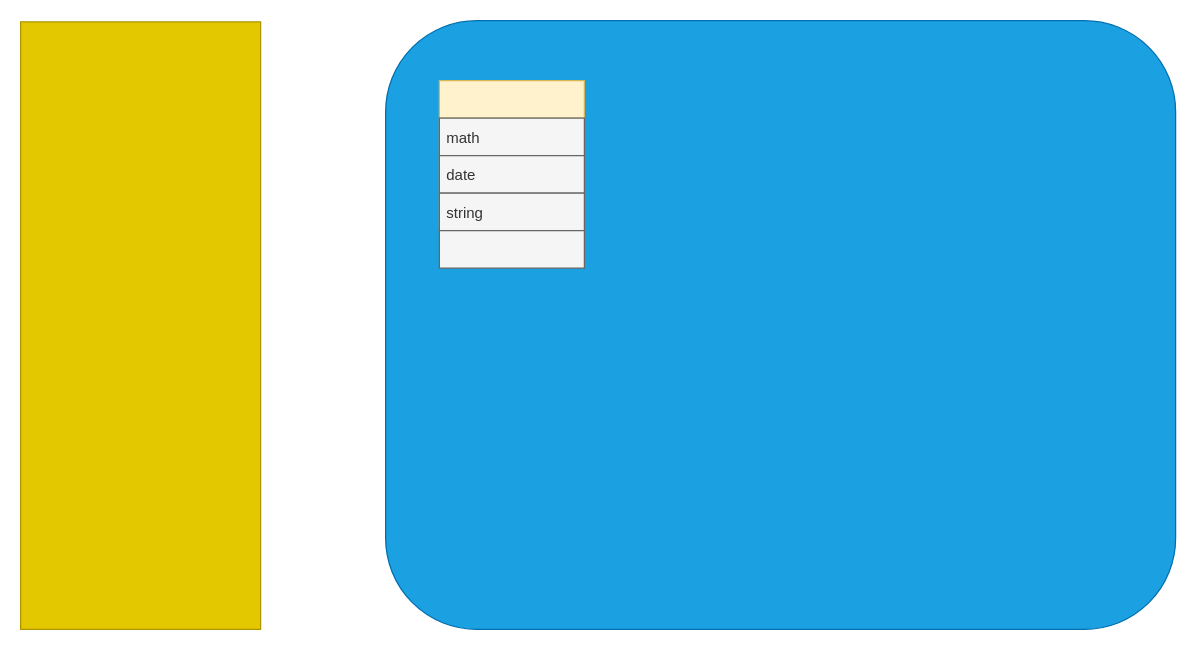
The diagram is 1196 pixels wide and 650 high, and some of its shapes have lost their labels. The box of each missing label's shape, as (x1, y1, x2, y2) in pixels:
global object: (438, 79, 584, 231)
number: (438, 229, 584, 268)
